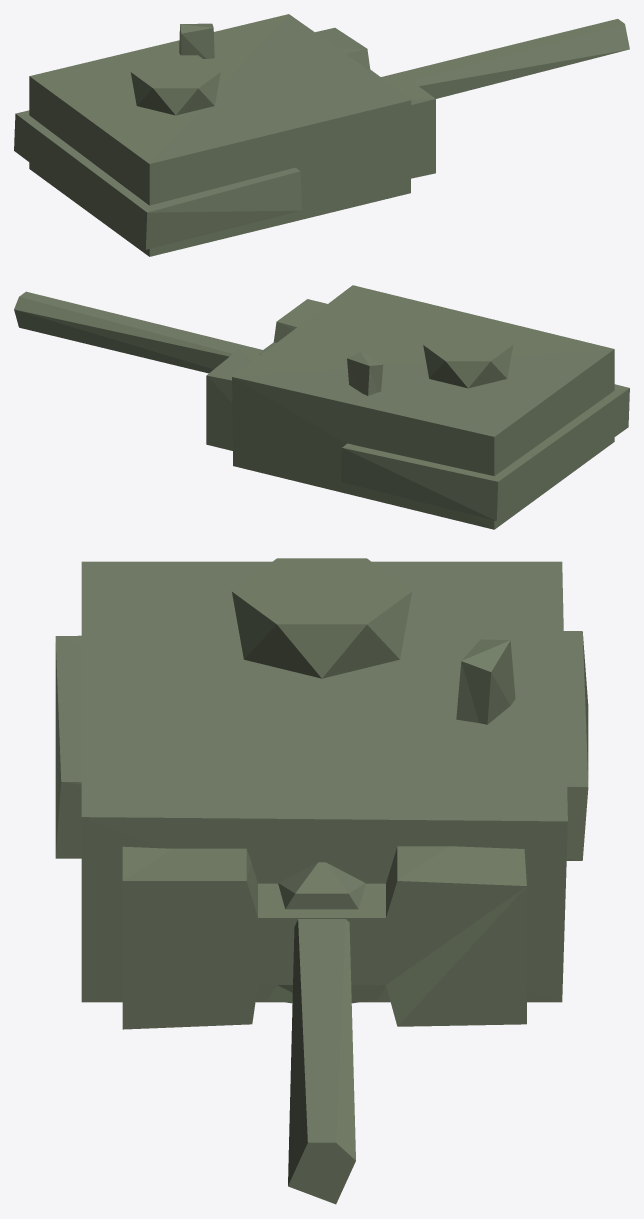
Rendered from tank_turret.lod2.glb.
3 renders of one model, top to bottom at view 1: azimuth 30°, elevation 25°; view 2: azimuth 150°, elevation 25°; view 3: azimuth 270°, elevation 25°, orthographic. The views are drawn at different scales.
Size of the model in its own units: 3.05 by 0.65 by 1.3.
